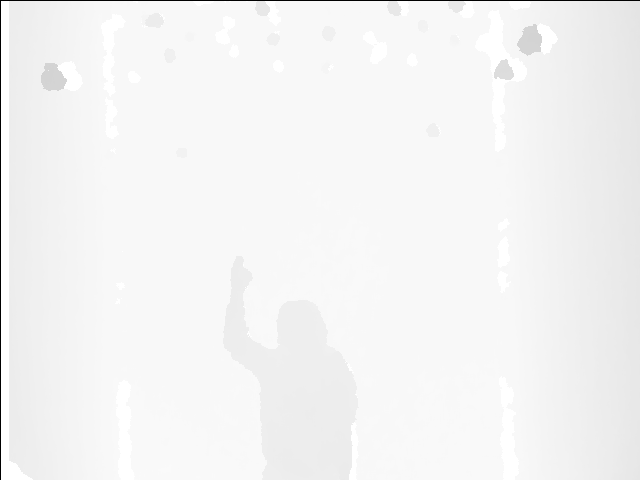hand: (229, 254, 254, 295)
